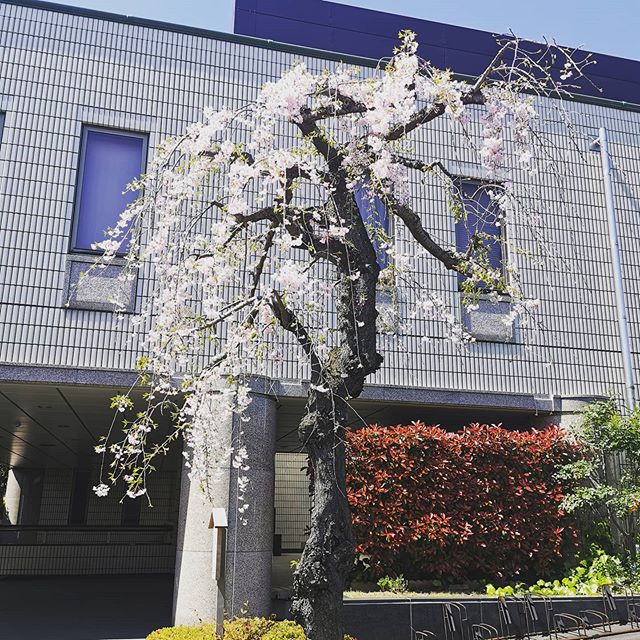building: (1, 1, 640, 636)
collumn: (178, 377, 286, 640)
tree: (100, 82, 469, 586)
vegetation: (345, 426, 639, 576)
